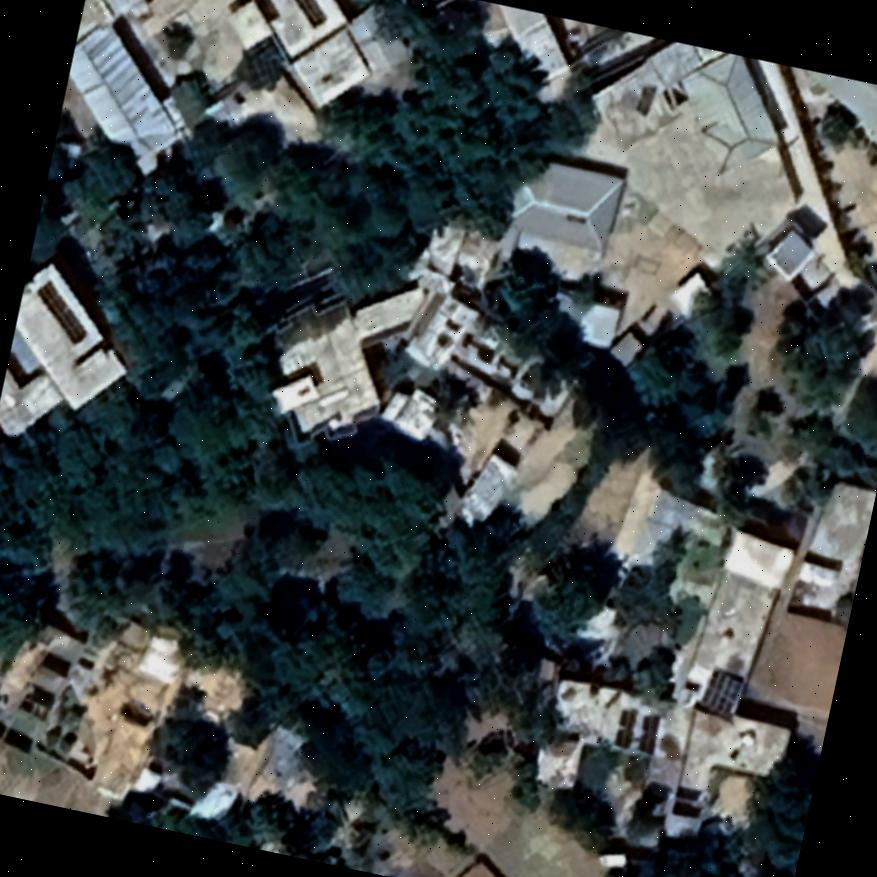Solarpanel: (33, 277, 92, 350), (699, 668, 744, 717), (294, 0, 331, 34), (634, 712, 662, 756), (611, 704, 637, 750)
